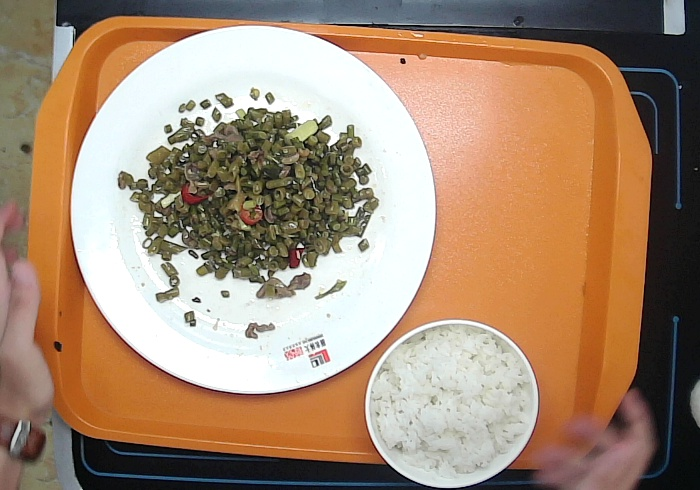ZNLD-Da_Yuan_Pan: (65, 23, 439, 398)
